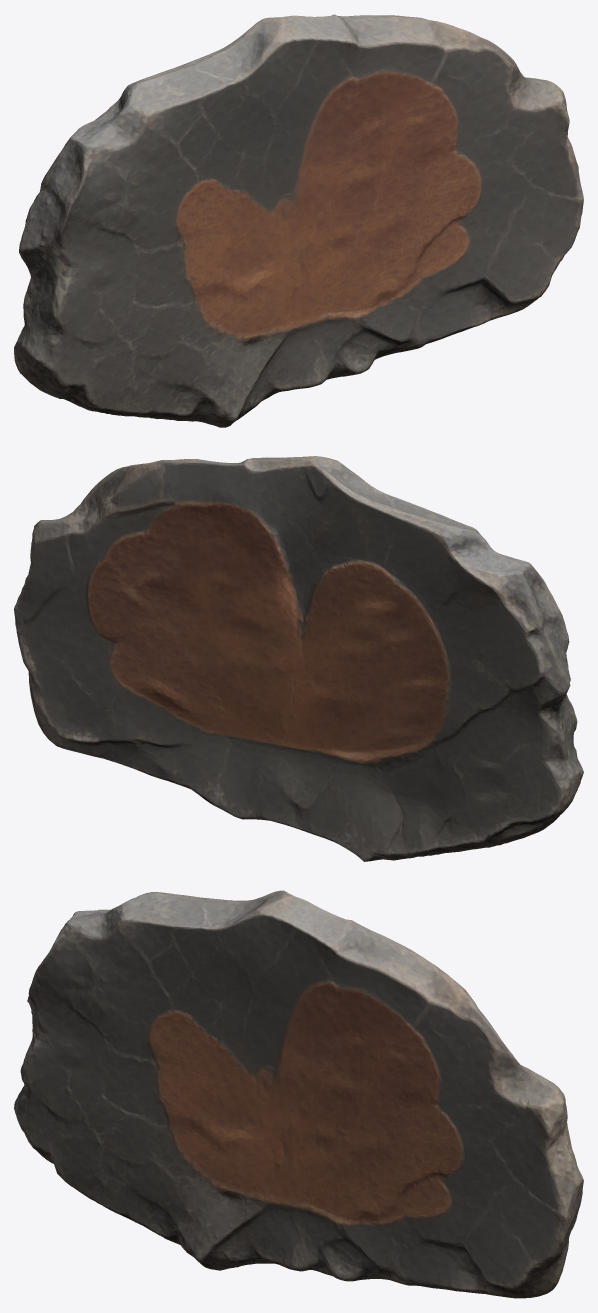
3 views of the same model, one above another, from view 1: azimuth 30°, elevation 25°; view 2: azimuth 150°, elevation 25°; view 3: azimuth 330°, elevation 25° (orthographic).
Parts seen in each view (by area): view 1: world; view 2: world; view 3: world.
Boxes of the visible parts, bbox=[...] form: world: bbox=[14, 14, 583, 427]; world: bbox=[14, 456, 583, 861]; world: bbox=[14, 890, 583, 1298].
Bounding box in the file's own units: 0.12 × 0.0799 × 0.0138.
Materials: 1 (1 with a texture image).
